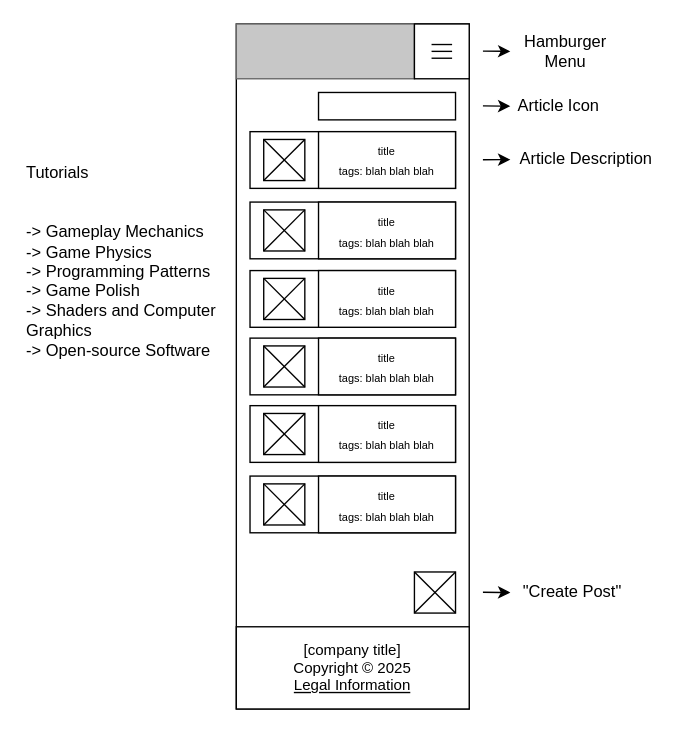
The diagram is 684 pixels wide and 733 high, and some of its shapes have lost their labels. Here are the shapes that lost their labels. From the top down, the centre of each, then its label:
pixel 324 51: Logo
pixel 386 105: User Created Articles
